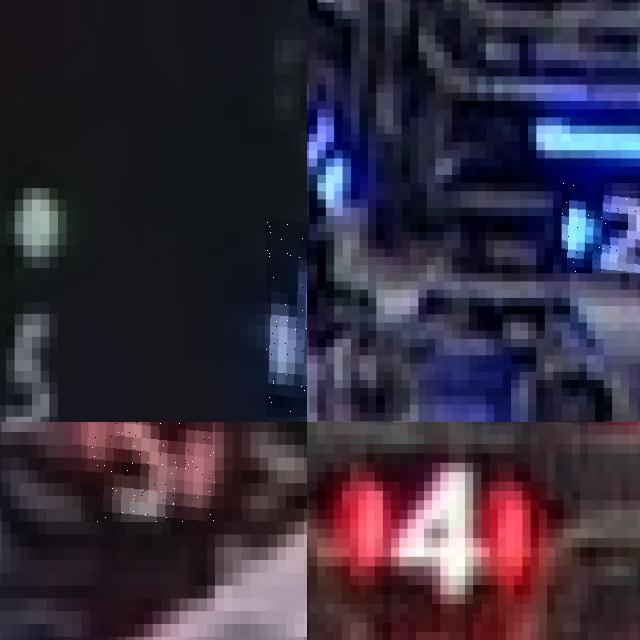B2: (561, 182, 640, 273)
B5: (265, 222, 307, 416)
R4: (350, 463, 531, 604)
R5: (81, 422, 214, 521)
